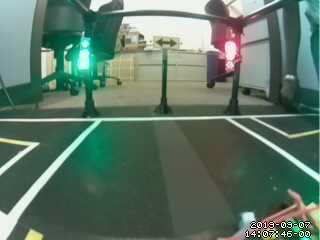Left_Right_sign: (150, 33, 183, 54)
Traffic_light_green: (79, 35, 94, 74)
Traffic_light_red: (224, 42, 238, 75)
